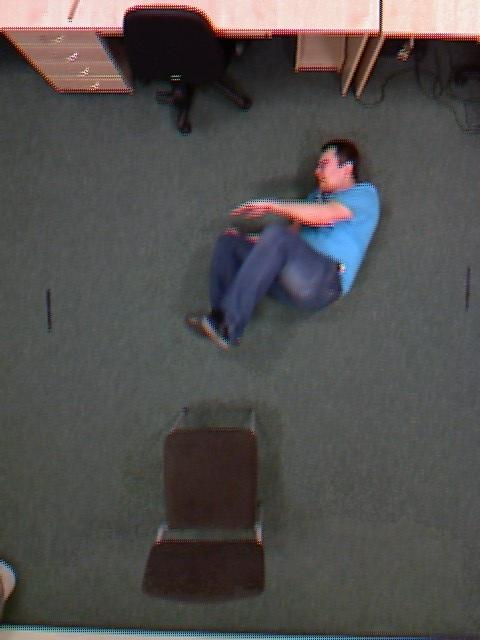fall: (195, 114, 377, 381)
